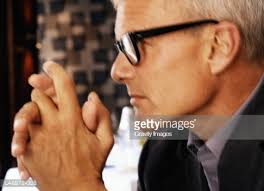Glasses: (107, 21, 220, 66)
